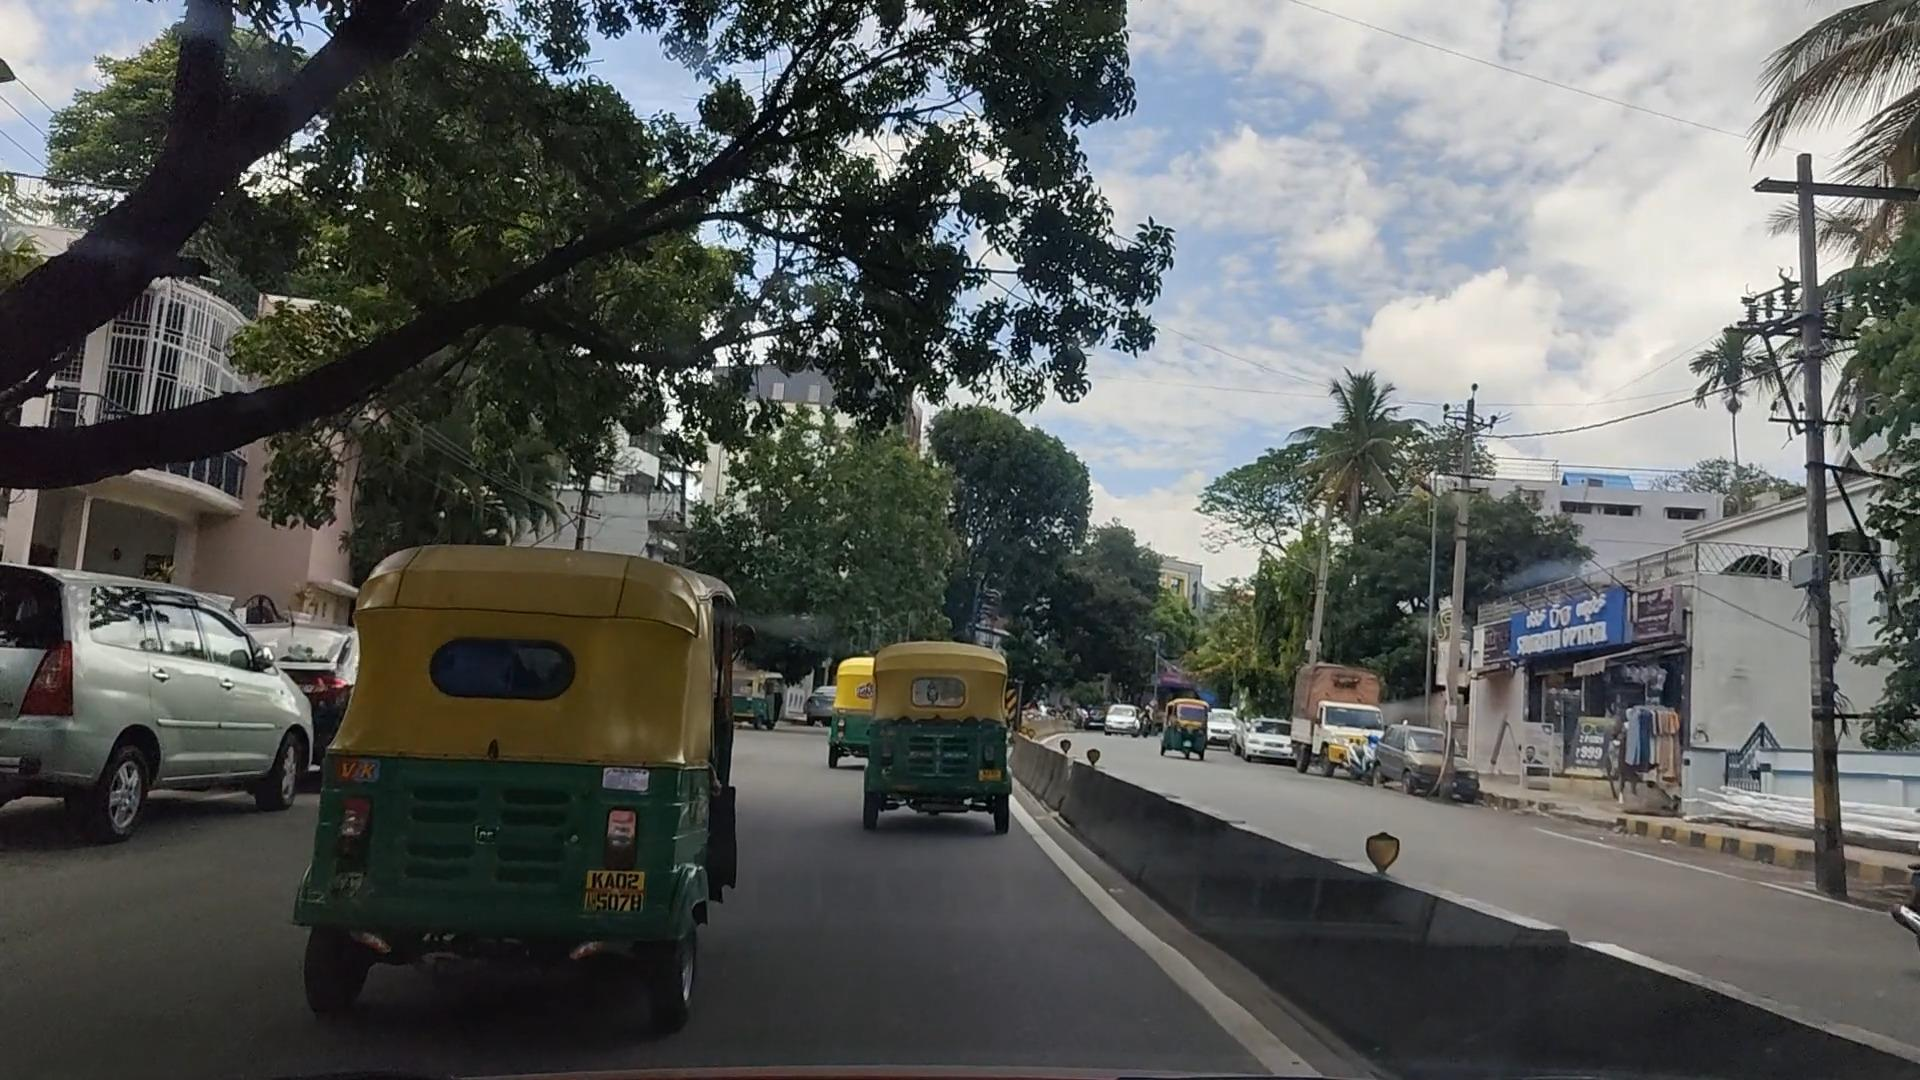LMV: (363, 538, 711, 1013), (5, 555, 335, 840), (836, 630, 1023, 852)
